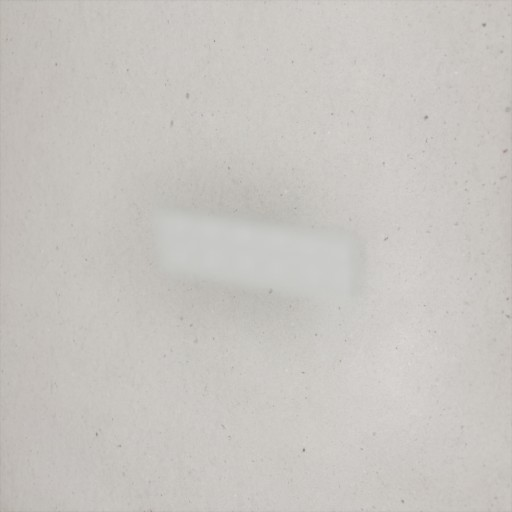lego: (154, 206, 362, 304)
